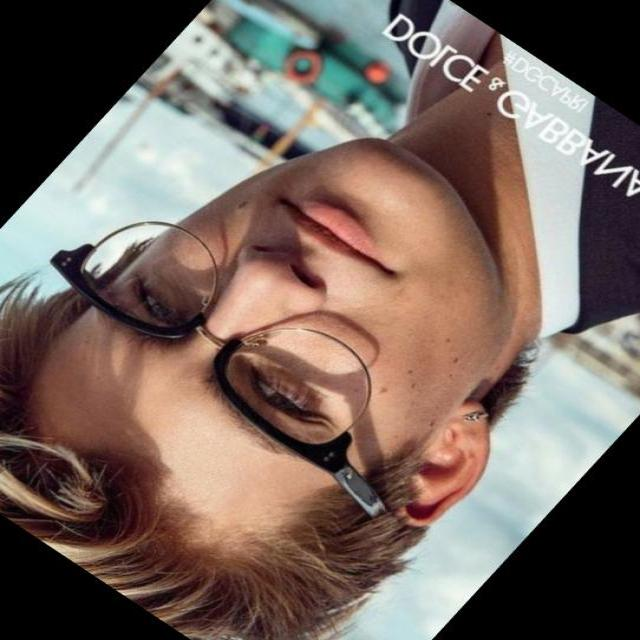glasses: (20, 182, 463, 514)
